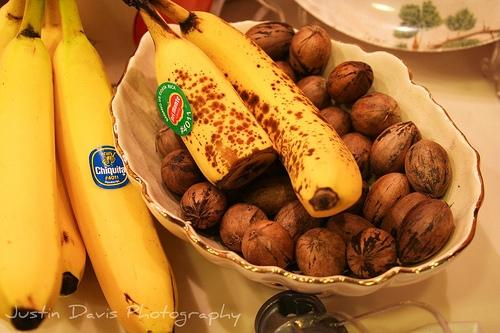banana: (148, 0, 362, 218), (52, 0, 178, 333), (123, 0, 278, 191), (0, 1, 62, 330), (40, 0, 86, 298), (0, 0, 26, 55)
